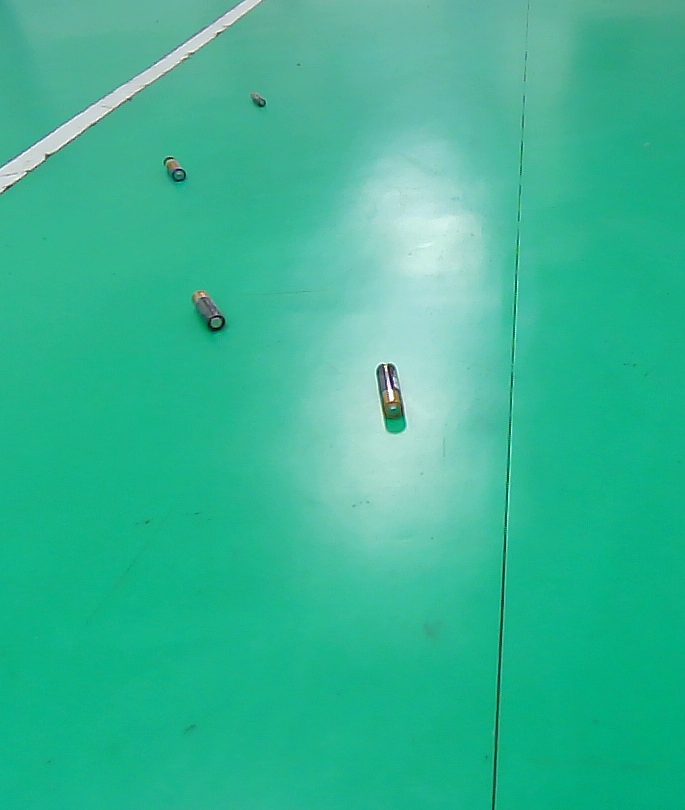battery: (356, 344, 423, 448), (176, 275, 240, 348), (151, 141, 200, 197), (235, 74, 280, 126)
